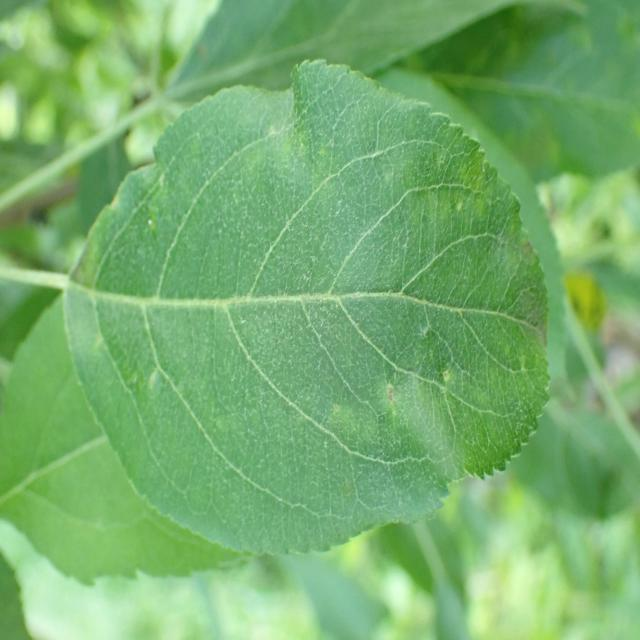scab: (67, 160, 553, 506)
